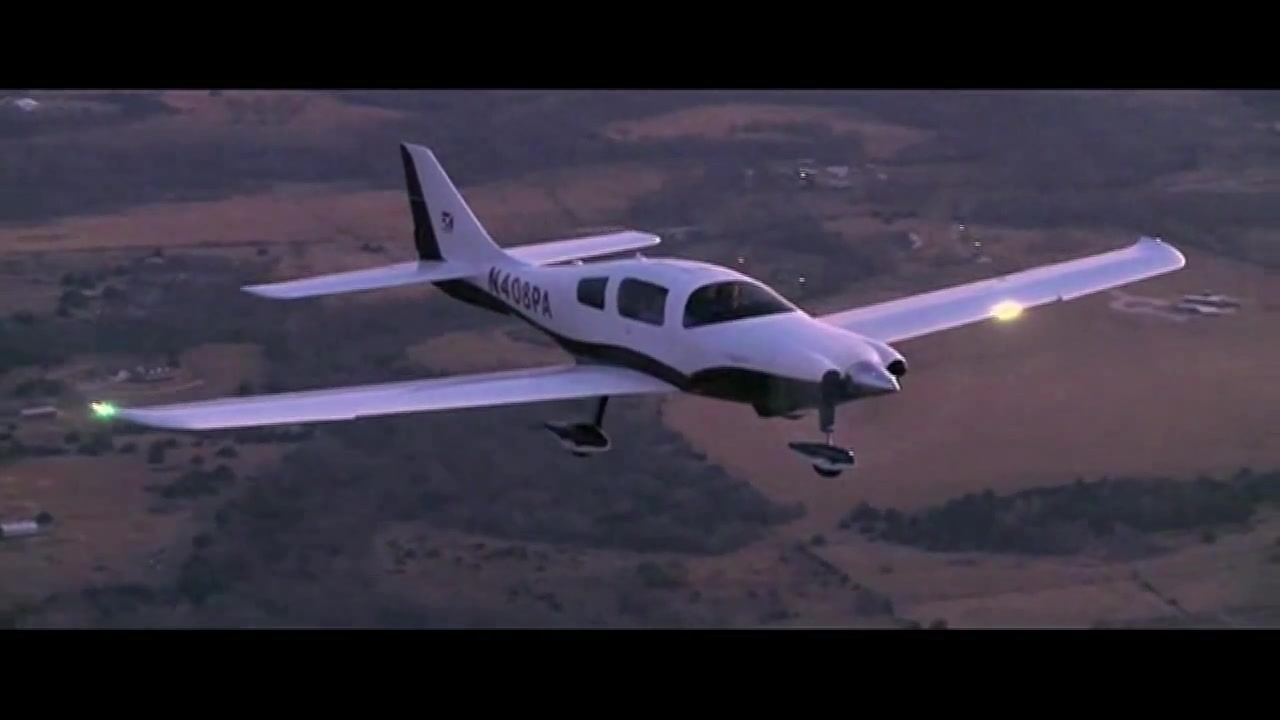aeroplane: (90, 142, 1189, 480)
